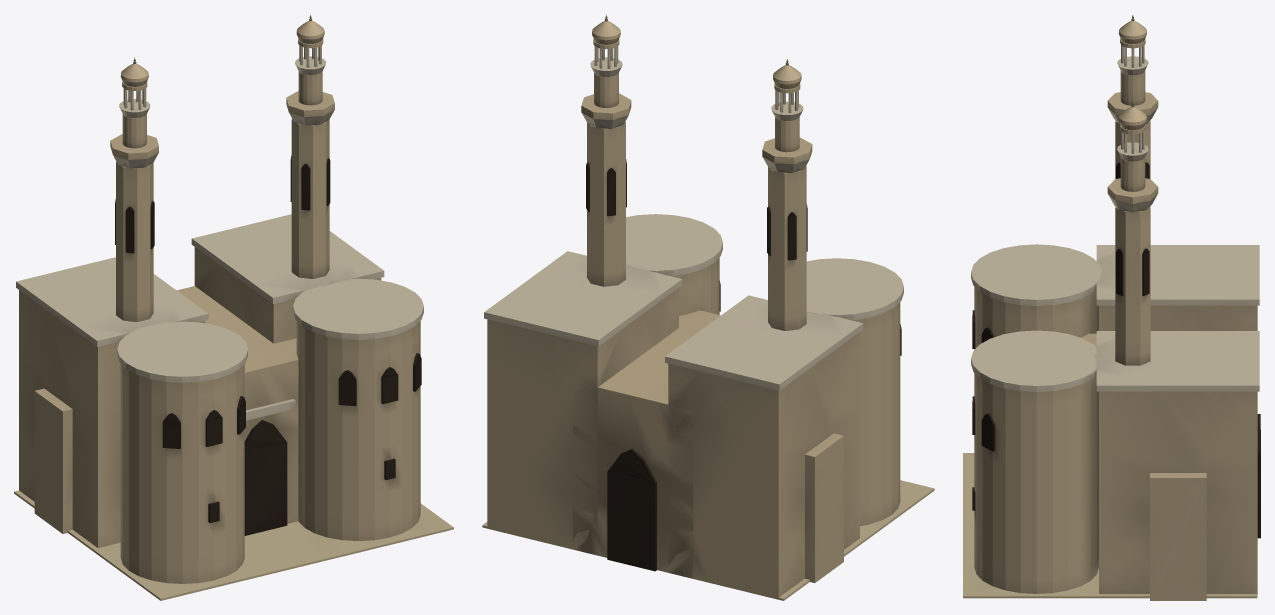
File: bab-zuwayla-1600.glb
The picture shows the model from 3 angles, left to right: view 1: azimuth 30°, elevation 25°; view 2: azimuth 150°, elevation 25°; view 3: azimuth 270°, elevation 25°; orthographic projection. The views are drawn at different scales.
Parts seen in each view (by area): view 1: p1_gate, p2_minarets, p0_ground; view 2: p1_gate, p2_minarets, p0_ground; view 3: p1_gate, p2_minarets, p0_ground.
Part boxes in pixels (x1=…): p1_gate: x1=16, y1=214, x2=423, y2=583; p2_minarets: x1=110, y1=15, x2=334, y2=321; p0_ground: x1=14, y1=388, x2=453, y2=600; p1_gate: x1=484, y1=214, x2=903, y2=599; p2_minarets: x1=581, y1=14, x2=812, y2=330; p0_ground: x1=482, y1=433, x2=934, y2=600; p1_gate: x1=971, y1=244, x2=1260, y2=595; p2_minarets: x1=1107, y1=15, x2=1158, y2=365; p0_ground: x1=963, y1=453, x2=1257, y2=600.
Bounding box in the file's own units: 31 × 45.78 × 26.3.
